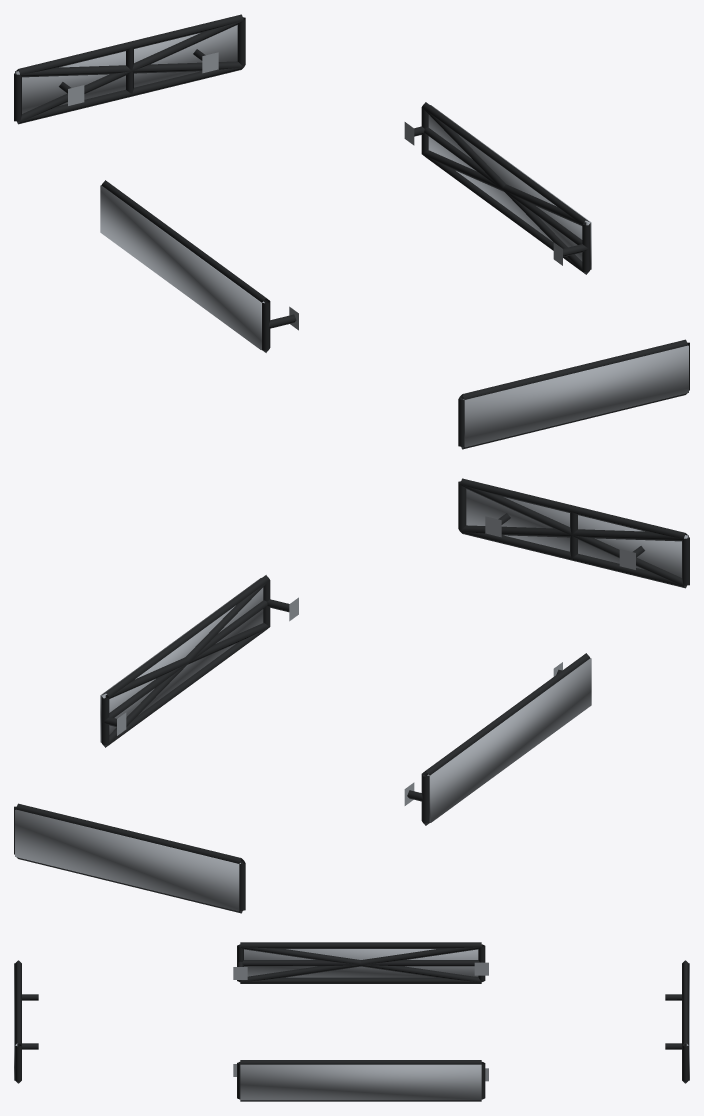
Rendered from hayase_obelisco_protecao.glb.
3 views of the same model, one above another, from view 1: azimuth 30°, elevation 25°; view 2: azimuth 150°, elevation 25°; view 3: azimuth 270°, elevation 25° (orthographic). The views are drawn at different scales.
Parts seen in each view (by area): view 1: Protection_front_Level3_Details, Protection_left_Level3_Details, Protection_rear_Level1_Details, Protection_rear_Level3_Details, Protection_right_Level1_Details, Protection_right_Level2_Details, Protection_rear_Level2_Details, Protection_right_Level3_Details, Protection_front_Level1_Details, Protection_left_Level1_Details; view 2: Protection_rear_Level3_Details, Protection_left_Level3_Details, Protection_front_Level1_Details, Protection_front_Level3_Details, Protection_right_Level1_Details, Protection_right_Level2_Details, Protection_front_Level2_Details, Protection_right_Level3_Details, Protection_rear_Level1_Details, Protection_left_Level1_Details; view 3: Protection_right_Level3_Details, Protection_left_Level2_Details, Protection_left_Level1_Details, Protection_left_Level3_Details, Protection_right_Level1_Details, Protection_rear_Level1_Details, Protection_front_Level1_Details.
Part boxes in pixels (x1,y1,x2,y2): Protection_front_Level3_Details: (463,345,688,447); Protection_left_Level3_Details: (100,185,264,349); Protection_rear_Level1_Details: (14,14,245,124); Protection_rear_Level3_Details: (15,25,237,113); Protection_right_Level1_Details: (404,102,590,274); Protection_right_Level2_Details: (422,108,589,274); Protection_rear_Level2_Details: (16,20,243,123); Protection_right_Level3_Details: (428,105,591,269); Protection_front_Level1_Details: (458,339,689,449); Protection_left_Level1_Details: (101,180,298,352); Protection_rear_Level3_Details: (15,809,240,911); Protection_left_Level3_Details: (427,658,591,822); Protection_front_Level1_Details: (458,478,689,588); Protection_front_Level3_Details: (466,489,688,577); Protection_right_Level1_Details: (101,575,298,747); Protection_right_Level2_Details: (102,581,269,747); Protection_front_Level2_Details: (460,484,687,587); Protection_right_Level3_Details: (100,578,263,742); Protection_rear_Level1_Details: (14,803,245,913); Protection_left_Level1_Details: (404,653,590,825); Protection_right_Level3_Details: (240,1064,481,1100); Protection_left_Level2_Details: (240,945,481,982); Protection_left_Level1_Details: (233,942,488,983); Protection_left_Level3_Details: (244,949,478,977); Protection_right_Level1_Details: (233,1060,488,1101); Protection_rear_Level1_Details: (665,960,688,1083); Protection_front_Level1_Details: (15,960,38,1083).
Bounding box in the file's own units: 2.21 × 0.354 × 5.21.
1 material, 1 textured.
